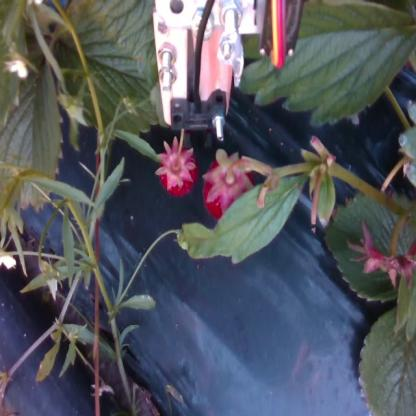ripe: (205, 165, 250, 219), (160, 149, 198, 196)
